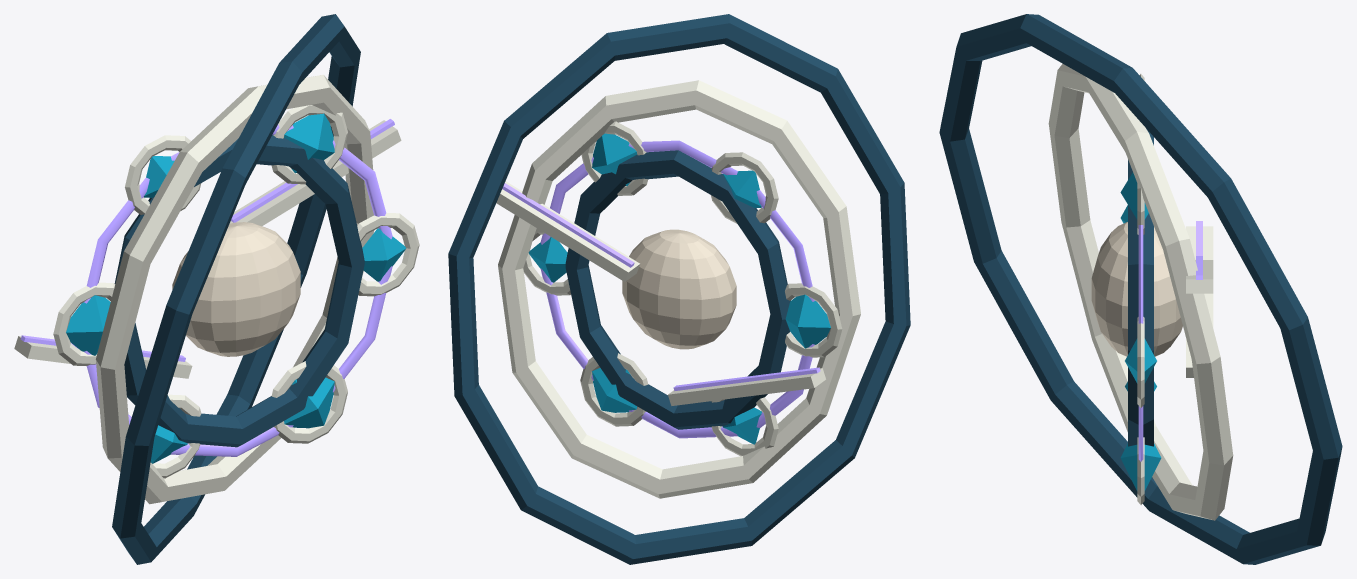
The model's file is landmark-low.glb.
3 views of the same model, side by side, from view 1: azimuth 30°, elevation 25°; view 2: azimuth 150°, elevation 25°; view 3: azimuth 270°, elevation 25° (orthographic). The views are drawn at different scales.
Visible parts, largest first — view 1: accent_static, porcelain_static, hull_static, glass_static, motion-lens-ring, trim_static; view 2: accent_static, porcelain_static, hull_static, glass_static, motion-lens-ring, trim_static; view 3: accent_static, porcelain_static, hull_static, glass_static, motion-lens-ring.
Boxes of the visible parts, x1,y1,x2,y2 form: accent_static: [112, 14, 364, 564]; porcelain_static: [14, 74, 419, 504]; hull_static: [172, 222, 300, 356]; glass_static: [66, 113, 406, 463]; motion-lens-ring: [84, 124, 392, 456]; trim_static: [20, 119, 394, 361]; accent_static: [448, 14, 910, 564]; porcelain_static: [496, 80, 860, 498]; hull_static: [622, 229, 736, 349]; glass_static: [528, 133, 830, 444]; motion-lens-ring: [540, 140, 814, 438]; trim_static: [502, 183, 820, 391]; accent_static: [939, 14, 1342, 564]; porcelain_static: [1048, 64, 1233, 520]; hull_static: [1091, 222, 1182, 356]; glass_static: [1120, 172, 1161, 490]; motion-lens-ring: [1138, 225, 1143, 461].
Bounding box in the file's own units: 1115 × 1532 × 1016.
